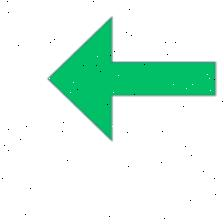left: (42, 11, 219, 143)
